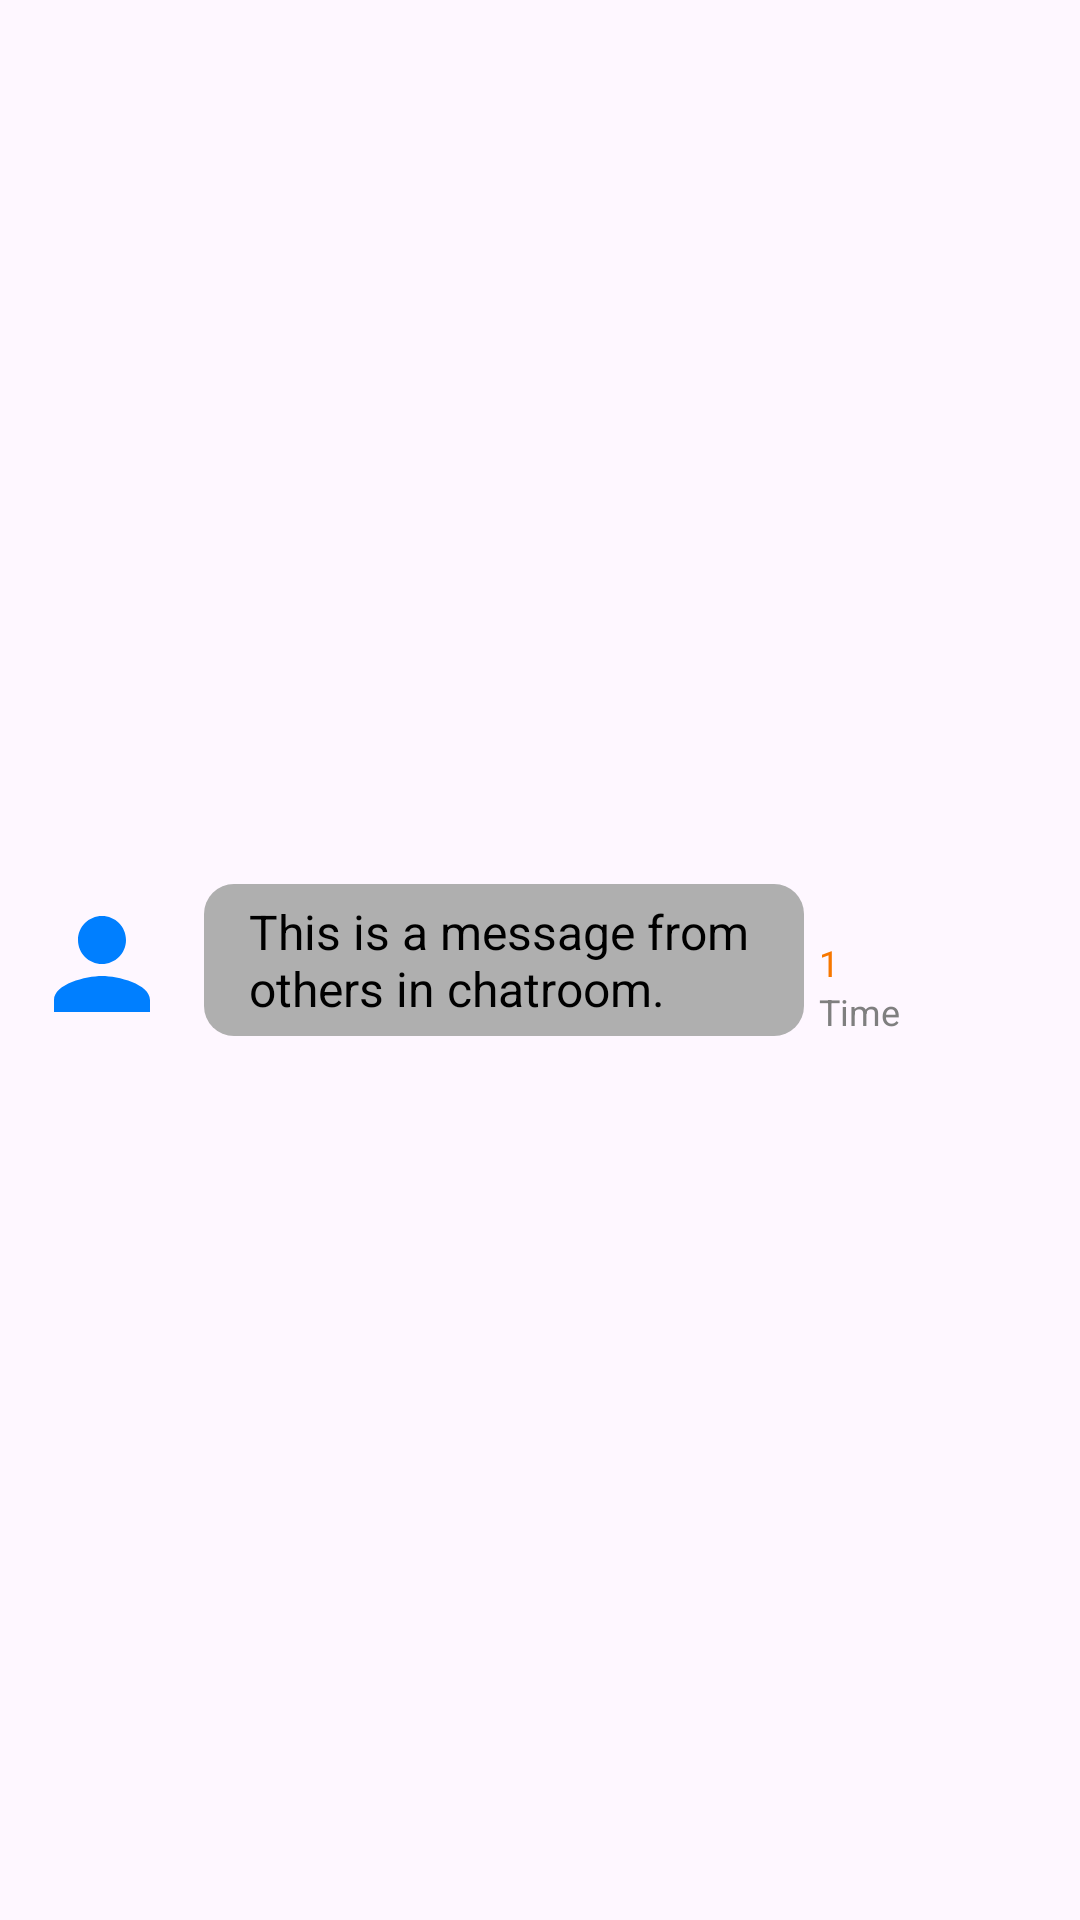

Icons on this 1080px×1920px Android screen, each with its box as [x1, y1, x2, y2]:
person: [54, 916, 150, 1012]
